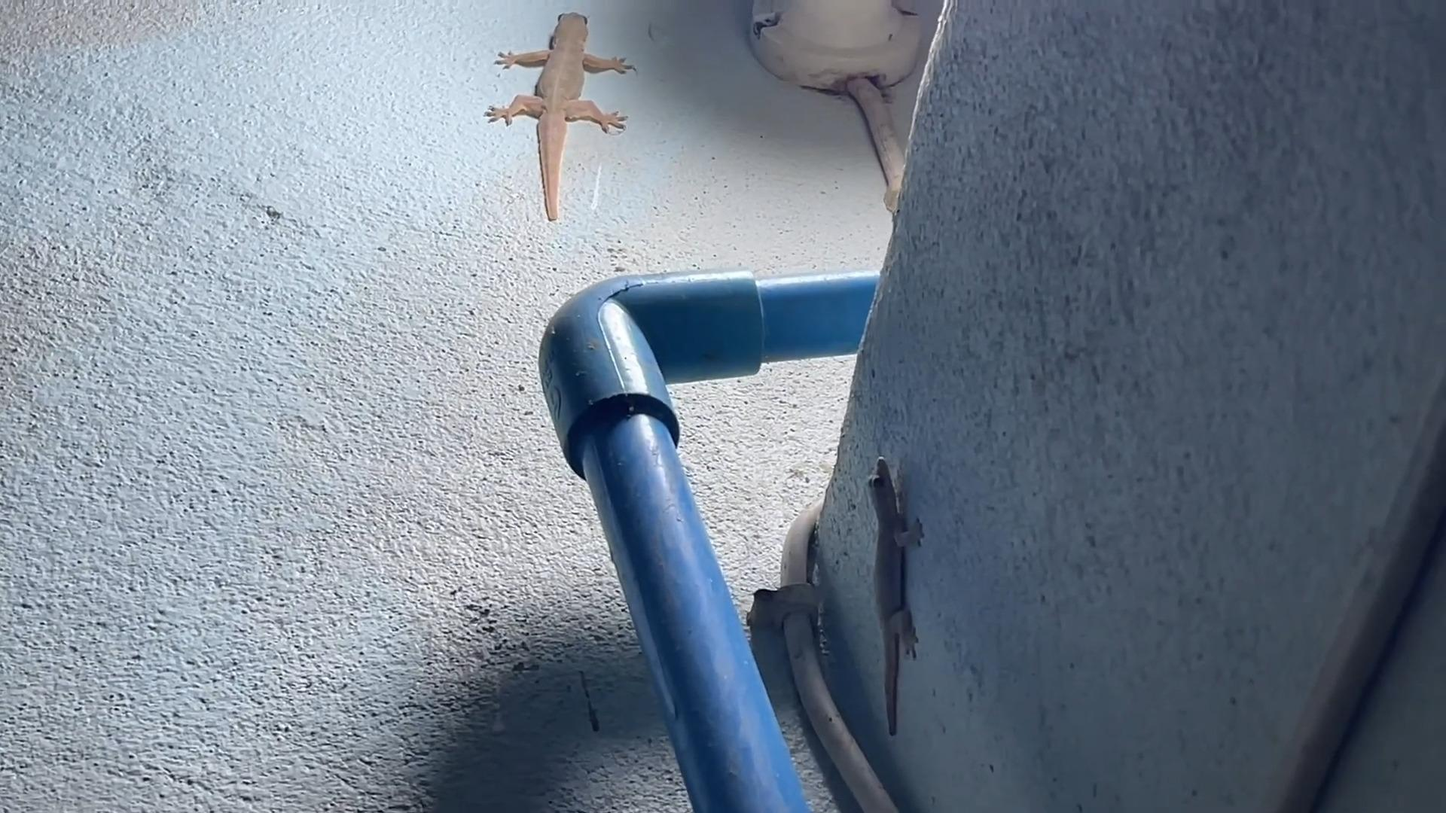lizard: (480, 2, 637, 220)
